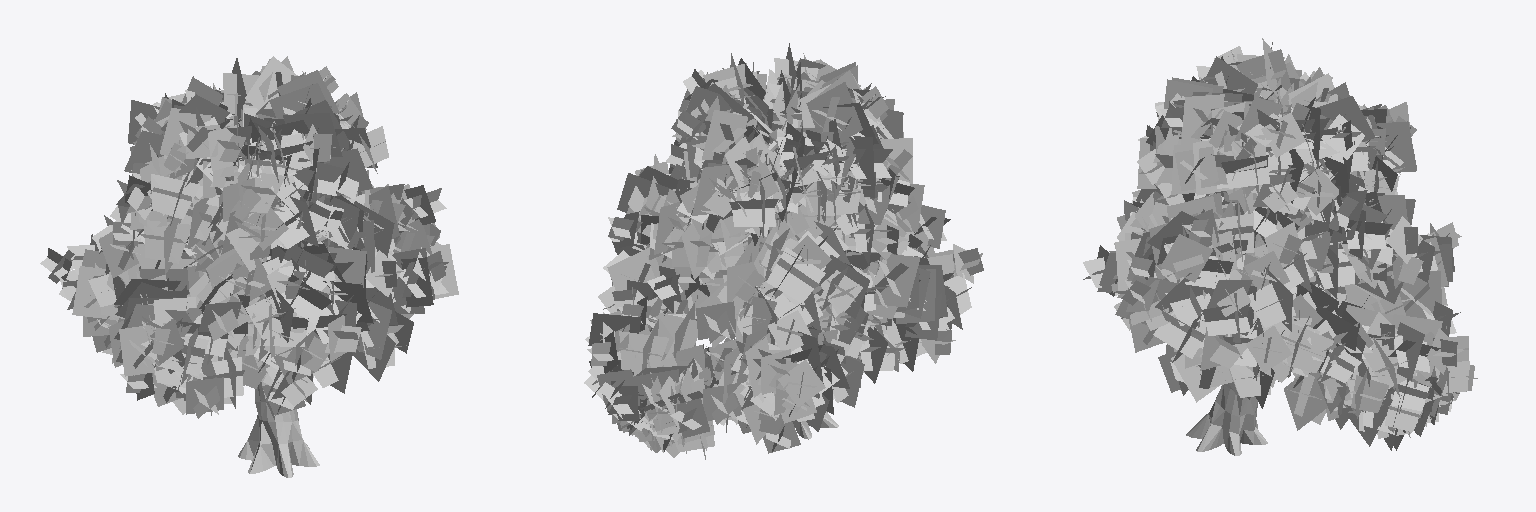
Rendered from CherryBlossom_5.obj.
3 renders of one model, left to right at view 1: azimuth 30°, elevation 25°; view 2: azimuth 150°, elevation 25°; view 3: azimuth 270°, elevation 25°, orthographic.
Visible parts, largest first — view 1: CherryBlossom_5; view 2: CherryBlossom_5; view 3: CherryBlossom_5.
Boxes of the visible parts, box(x1,y1,x2,y2) form: CherryBlossom_5: box(40, 56, 458, 477); CherryBlossom_5: box(584, 43, 983, 459); CherryBlossom_5: box(1083, 38, 1477, 455).
Bounding box in the file's own units: 12.49 × 13.38 × 13.01.